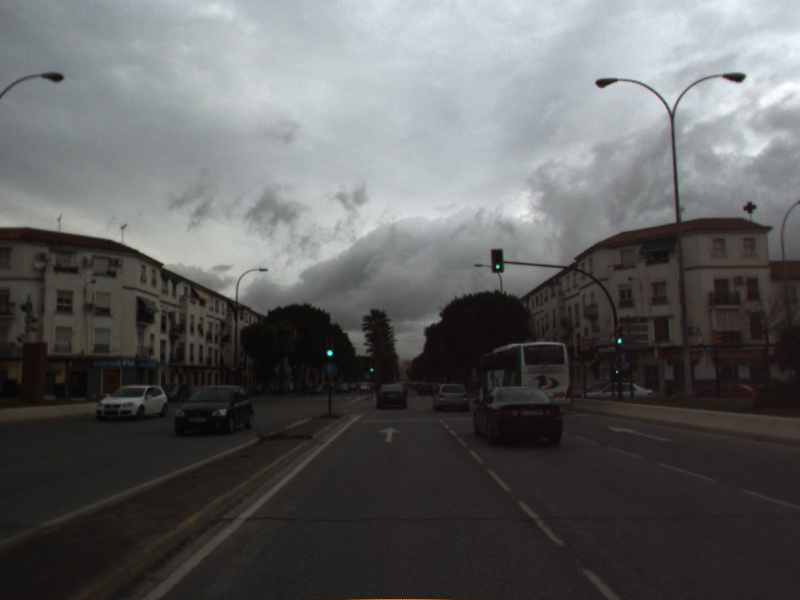STRAIGHT: (605, 423, 675, 444), (377, 424, 404, 445)
